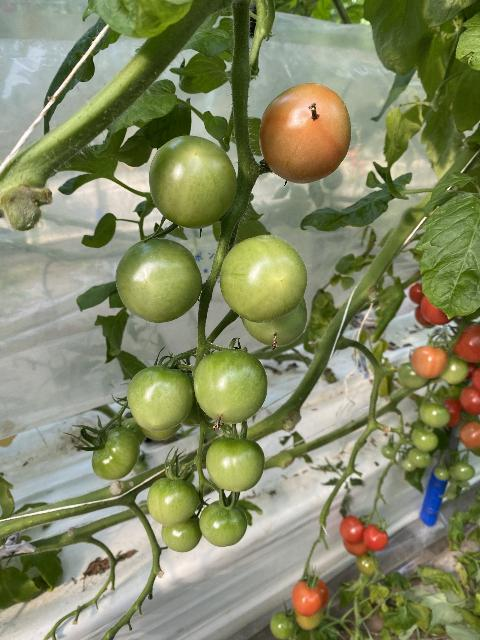l_fully_ripened: (420, 294, 455, 324), (293, 582, 322, 618), (452, 326, 480, 361), (338, 515, 363, 543), (363, 524, 388, 551), (459, 386, 480, 414)
l_green: (148, 133, 239, 229), (219, 234, 307, 323), (115, 236, 203, 323), (193, 348, 268, 425), (127, 366, 193, 431), (241, 294, 307, 346), (205, 435, 265, 492), (146, 476, 200, 527), (90, 427, 140, 482), (199, 501, 249, 547), (161, 512, 202, 552), (437, 354, 468, 385), (397, 361, 429, 388), (418, 402, 450, 427), (269, 612, 294, 638), (411, 429, 438, 450), (407, 446, 431, 468)
l_half_ripened: (259, 82, 351, 184), (410, 347, 449, 378), (459, 421, 480, 450)
